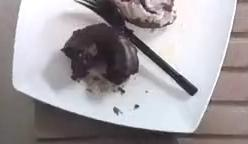donut: (62, 1, 138, 87), (114, 0, 176, 27)
